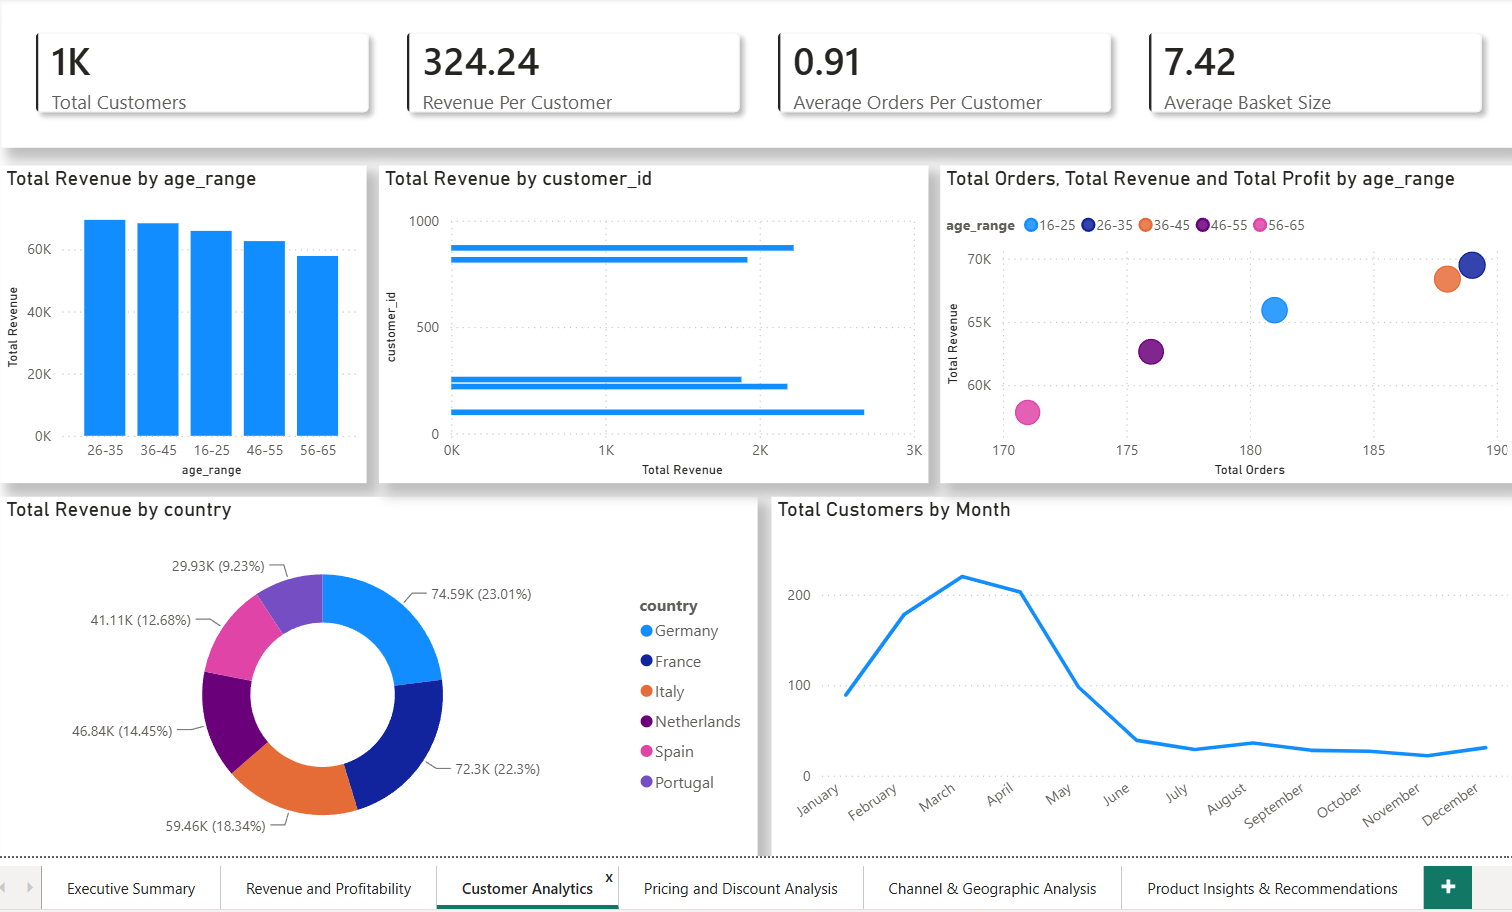

The dashboard page shown, as its layout file describes it:
{"tool":"powerbi","page":{"name":"Customer Analytics ","canvas":[1280,720],"ordinal":2},"visuals":[{"type":"cardVisual","fields":{"Data":["salesitems.Total Customers","customers.Revenue Per Customer","customers.Average Orders","customers.Average Basket Size"]},"box":[10,0,1270,125.4],"z":0},{"type":"clusteredColumnChart","fields":{"Category":["customers.age_range"],"Y":["salesitems.Total Revenue"]},"box":[9.9,140.3,307.6,266.5],"z":1000},{"type":"donutChart","fields":{"Category":["customers.country"],"Y":["salesitems.Total Revenue"]},"box":[9.9,418.2,635,301.9],"z":2000},{"type":"clusteredBarChart","fields":{"Category":["customers.customer_id"],"Y":["salesitems.Total Revenue"]},"box":[327.4,140.3,460.7,266.5],"z":3000},{"type":"lineChart","fields":{"Category":["customers.signup_date.Variation.Date Hierarchy.Month"],"Y":["salesitems.Total Customers"]},"box":[656.3,418.2,623.7,301.9],"z":4000},{"type":"scatterChart","fields":{"Series":["customers.age_range"],"Size":["salesitems.Total Profit"],"X":["salesitems.Total Orders"],"Y":["salesitems.Total Revenue"]},"box":[798.1,140.3,481.9,266.5],"z":5000}]}

Visuals, with their boxes on the page's 1280x720 design canvas (x1, y1, x2, y2). These are canvas units, not pixel positions in the 1512x912 screenshot, which may show the page scaled, cropped or inside an application window:
cardVisual - salesitems.Total Customers x customers.Revenue Per Customer: box(10, 0, 1280, 125)
clusteredColumnChart - customers.age_range x salesitems.Total Revenue: box(10, 140, 318, 407)
donutChart - customers.country x salesitems.Total Revenue: box(10, 418, 645, 720)
clusteredBarChart - customers.customer_id x salesitems.Total Revenue: box(327, 140, 788, 407)
lineChart - customers.signup_date.Variation.Date Hierarchy.Month x salesitems.Total Customers: box(656, 418, 1280, 720)
scatterChart - customers.age_range x salesitems.Total Profit: box(798, 140, 1280, 407)
